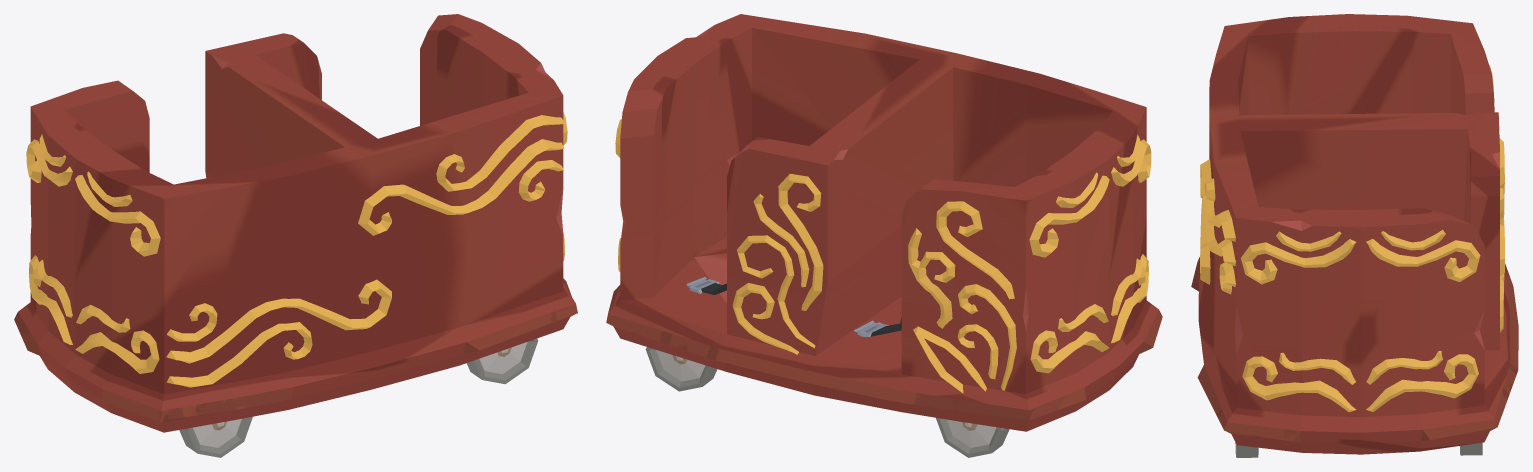
The model's file is Track_Car.glb.
3 renders of one model, left to right at view 1: azimuth 30°, elevation 25°; view 2: azimuth 150°, elevation 25°; view 3: azimuth 270°, elevation 25°, orthographic. The views are drawn at different scales.
Visible parts, largest first — view 1: SM_Veh_Trolley_01 (2); view 2: SM_Veh_Trolley_01 (2); view 3: SM_Veh_Trolley_01 (2).
Part boxes in pixels (x1,y1,x2,y2): SM_Veh_Trolley_01 (2): [14, 14, 577, 457]; SM_Veh_Trolley_01 (2): [606, 14, 1162, 457]; SM_Veh_Trolley_01 (2): [1191, 14, 1518, 457].
Size of the model in its own units: 1.82 by 1 by 1.12.
1 material, 1 textured.
